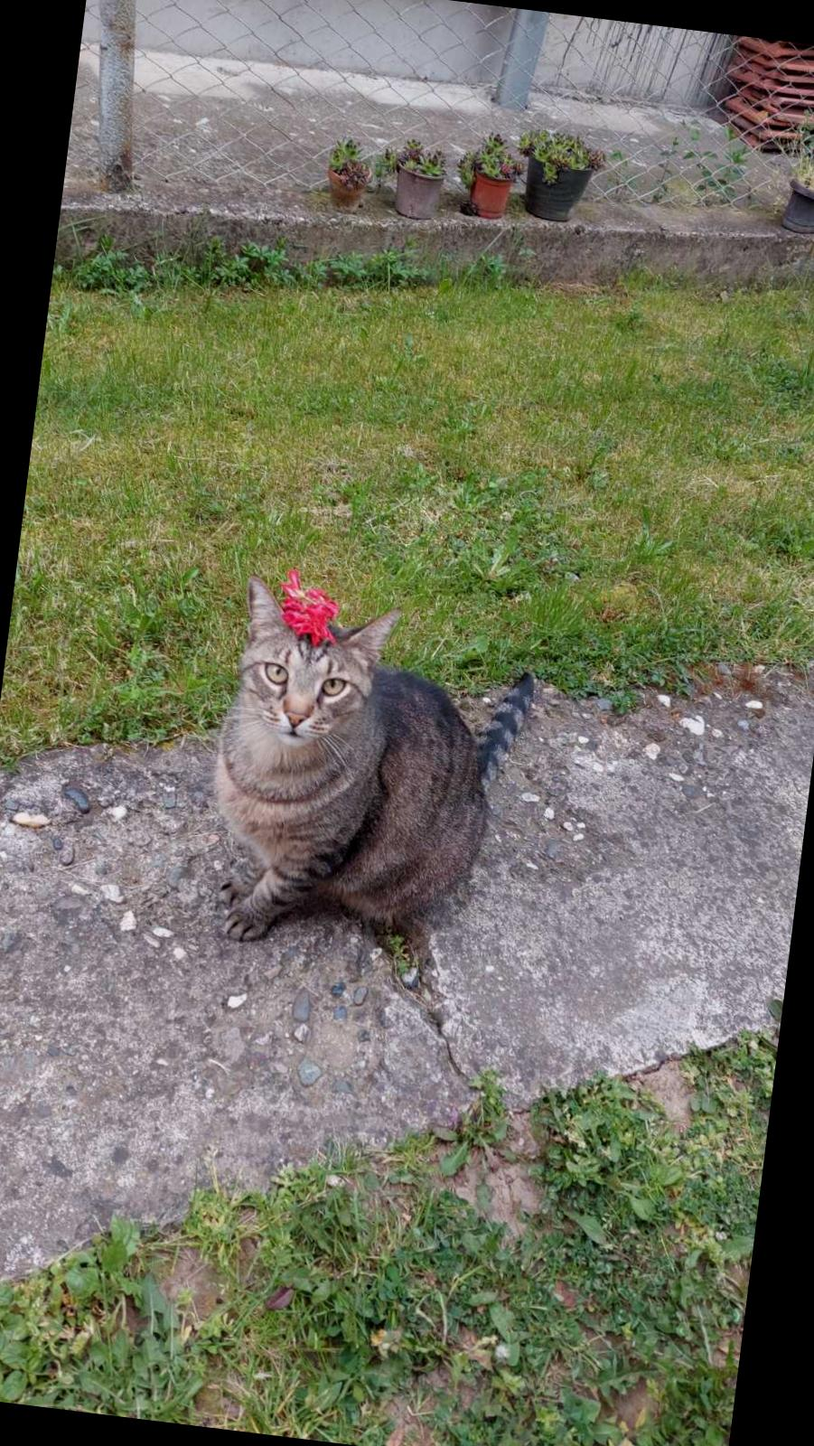macka: (193, 574, 543, 976)
